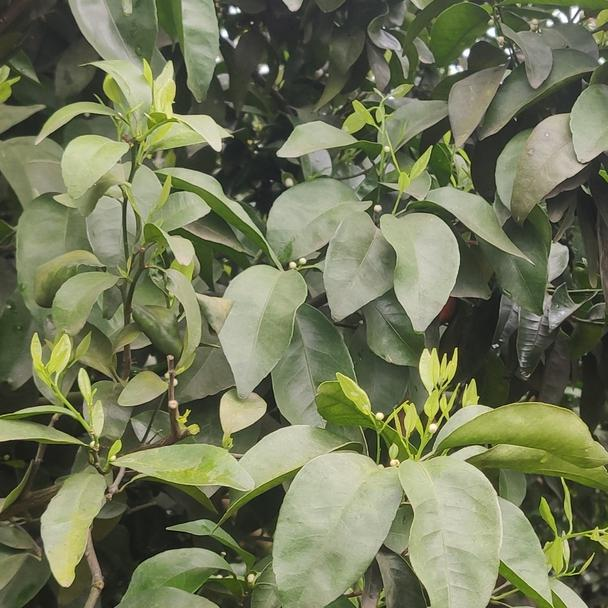shoot: (33, 336, 92, 423), (411, 358, 463, 447)
